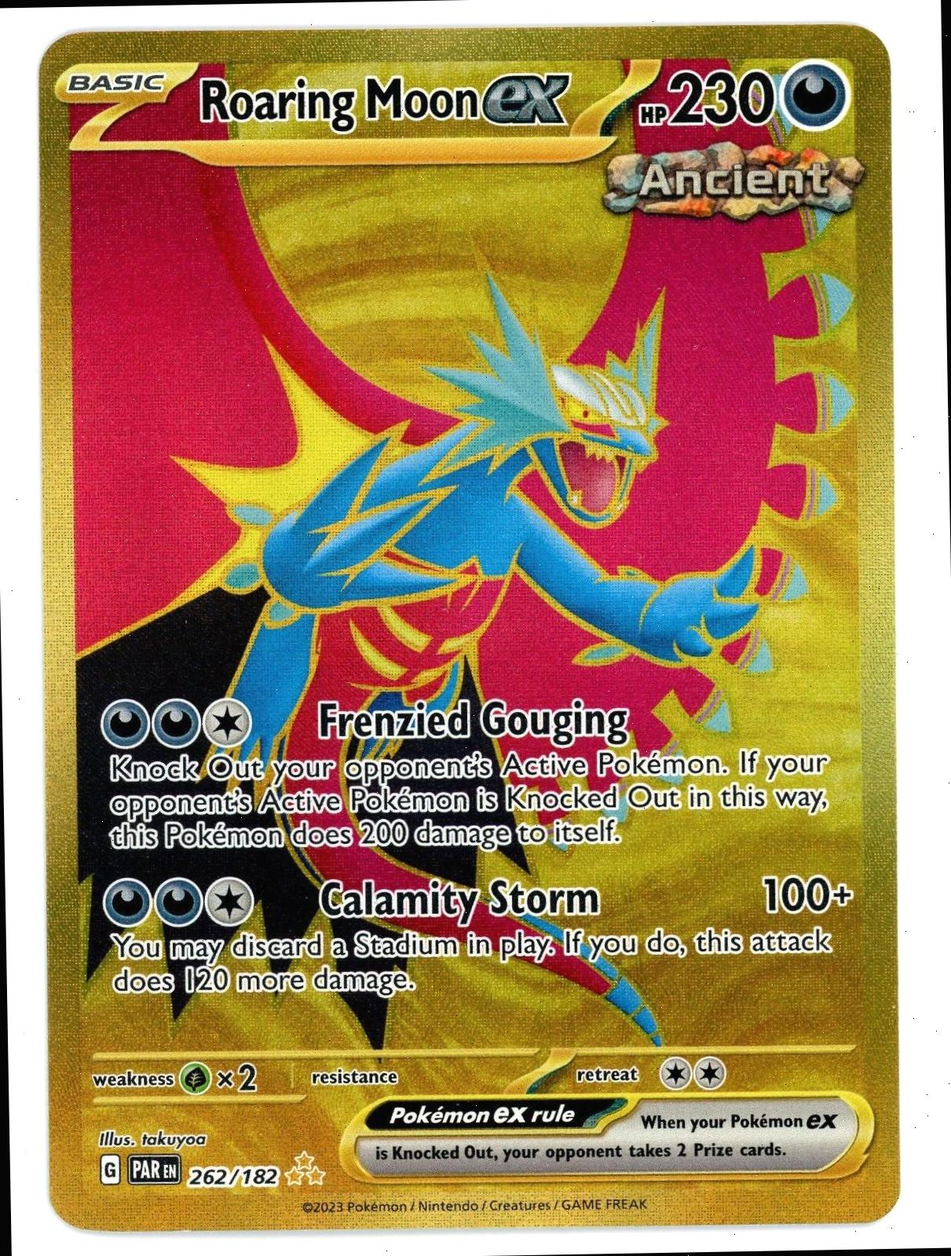card-2UtV: (38, 23, 901, 1233)
